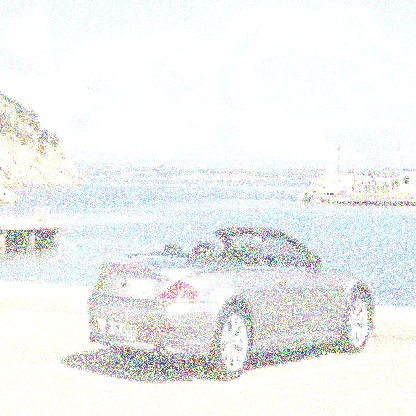Vehicle: (91, 232, 384, 375)
